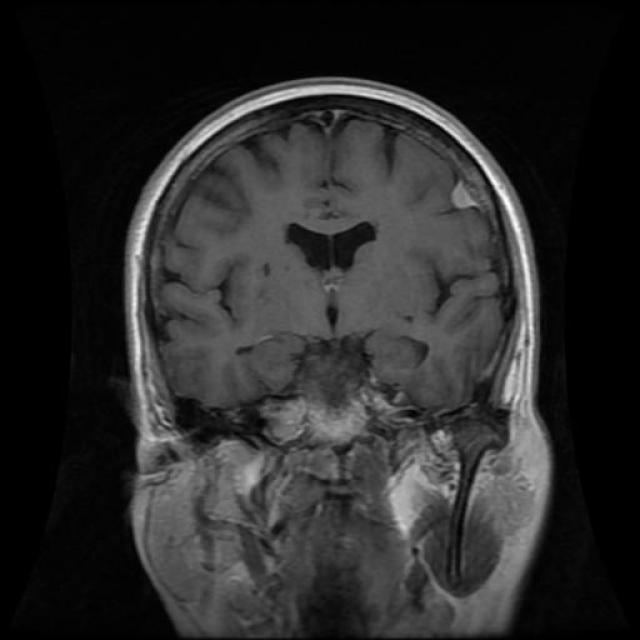meningioma: (451, 180, 479, 209)
